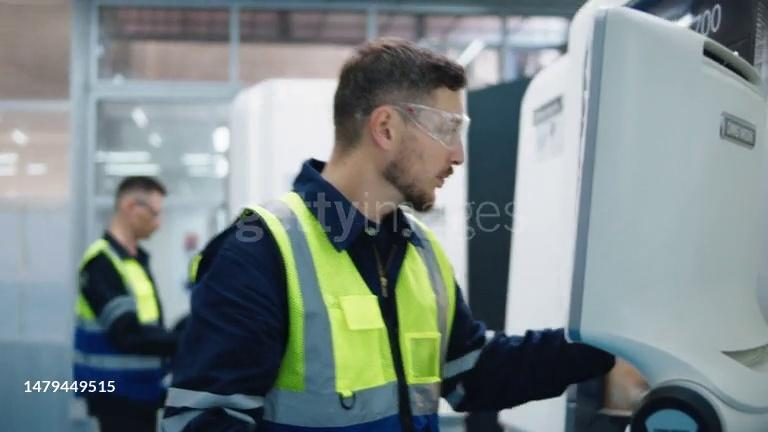person: (155, 37, 650, 432), (71, 175, 177, 432)
